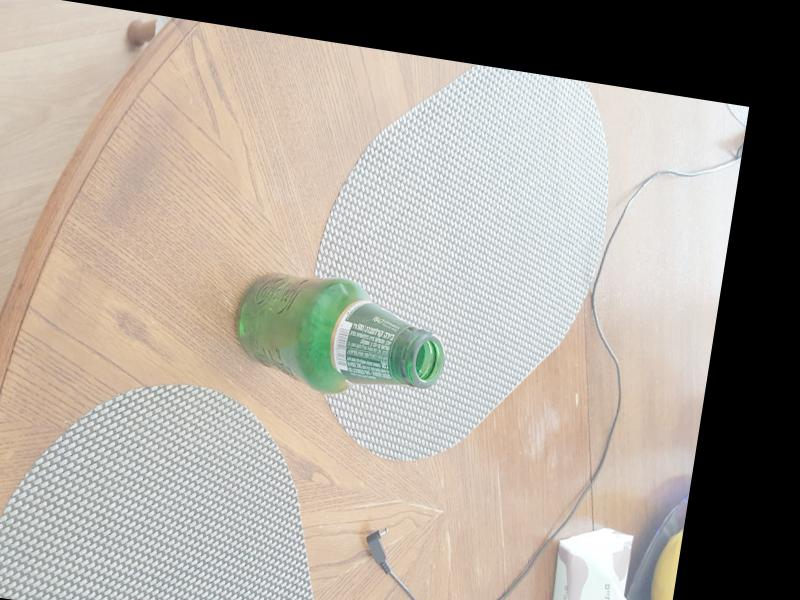Beer: (226, 264, 455, 406)
